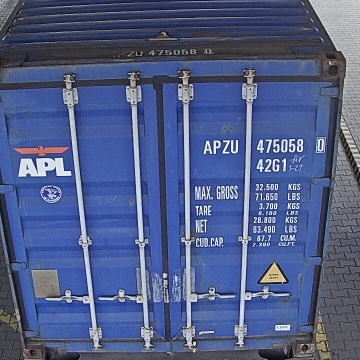serial_id: (202, 138, 325, 153)
